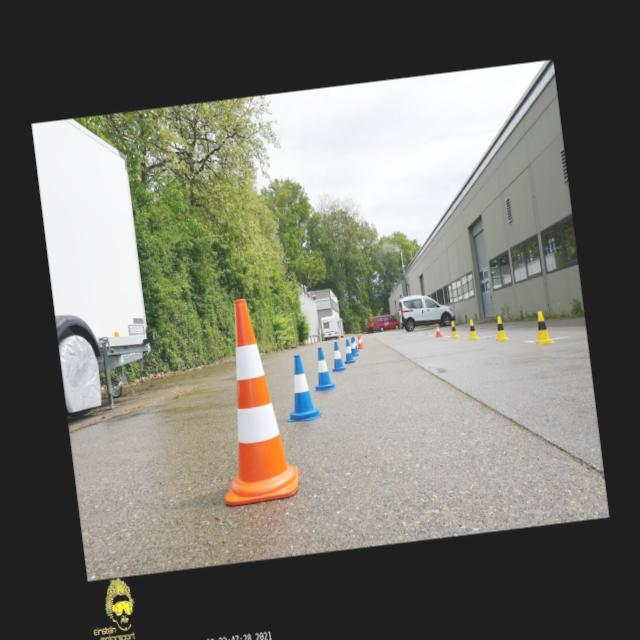blue_cone: (279, 352, 322, 422), (308, 346, 336, 391), (329, 341, 345, 372), (342, 338, 356, 364), (349, 336, 358, 356), (352, 336, 358, 352)
large_orange_cone: (200, 294, 300, 506)
orange_cone: (433, 322, 442, 337), (355, 334, 363, 349)
yellow_cone: (530, 309, 554, 345), (493, 315, 509, 341), (466, 318, 478, 340), (448, 321, 458, 338)
